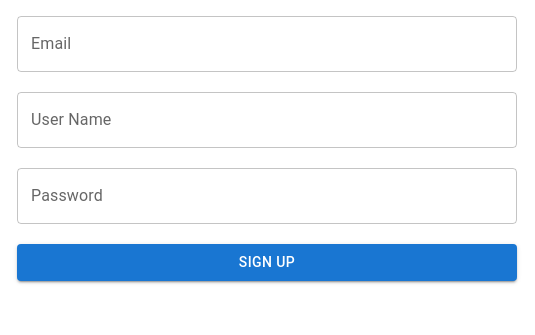
Scenario: Sign Up › Should show inline error if username provided is taken
The width and height of the screenshot is (535, 335).
In the field labelled "User Name": (267, 120) [17, 92, 517, 148], type "takenName"
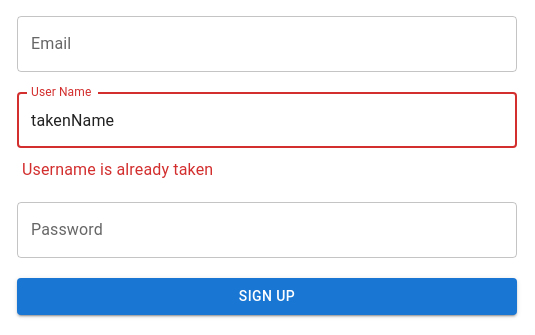
expect the text "Username is already taken" is shown: met, box [22, 160, 213, 179]
